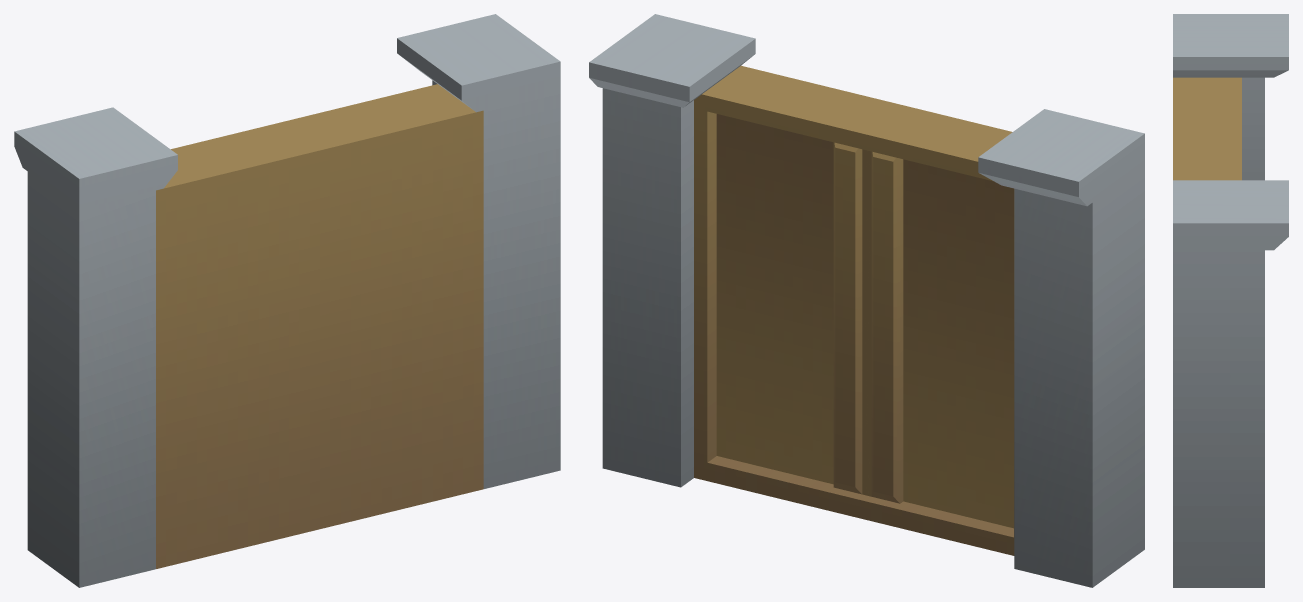
Rendered from Gate.fbx.
3 renders of one model, left to right at view 1: azimuth 30°, elevation 25°; view 2: azimuth 150°, elevation 25°; view 3: azimuth 270°, elevation 25°, orthographic. The views are drawn at different scales.
Visible parts, largest first — view 1: pCube17; view 2: pCube17; view 3: pCube17.
Boxes of the visible parts, box(x1,y1,x2,y2) form: pCube17: box(14, 14, 560, 587); pCube17: box(589, 14, 1144, 587); pCube17: box(1173, 14, 1288, 587).
Bounding box in the file's own units: 13.16 × 10.68 × 3.08.
